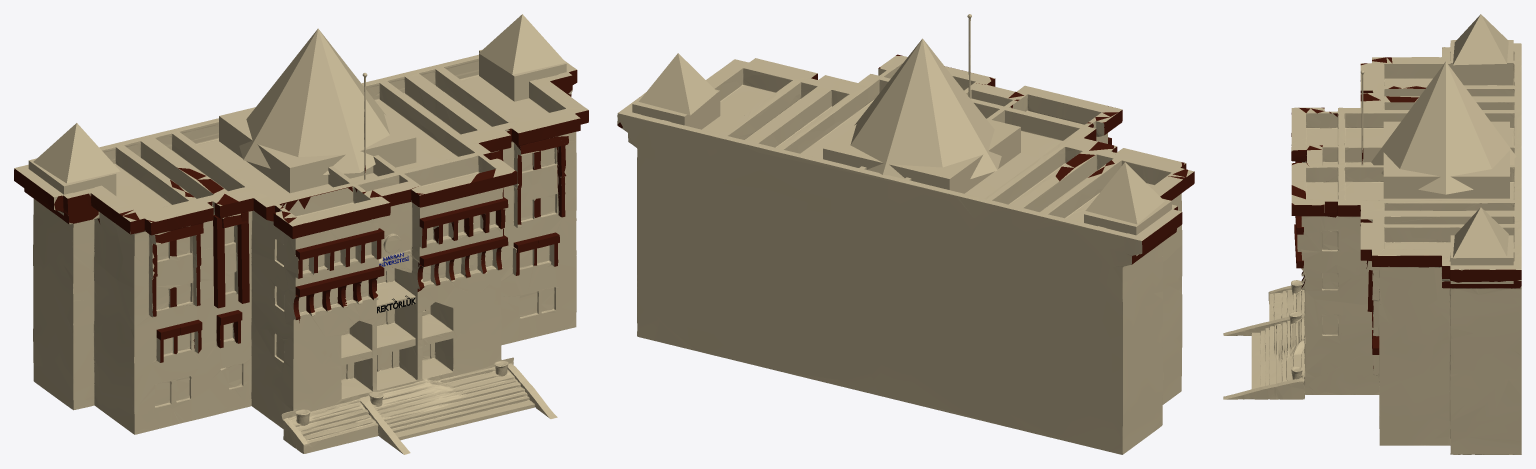
The model's file is Rektorluk-binasi.obj.
3 views of the same model, side by side, from view 1: azimuth 30°, elevation 25°; view 2: azimuth 150°, elevation 25°; view 3: azimuth 270°, elevation 25° (orthographic). The views are drawn at different scales.
Parts seen in each view (by area): view 1: mesh_0, Cone, Cube, Cone.002, Cone.001, Cube.001, Cube.002, Cube.010, Cube.003, Cube.004, Cube.005, Cube.006 (+1 smaller); view 2: mesh_0, Cone, Cube, Cone.002, Cone.001, Cube.001, Cube.002; view 3: mesh_0, Cone, Cube, Cone.001, Cone.002, Cube.002, Cube.001.
Boxes of the visible parts, box(x1,y1,x2,y2) form: mesh_0: box(14, 54, 588, 454); Cone: box(239, 28, 389, 174); Cube: box(219, 107, 416, 193); Cone.002: box(33, 123, 120, 183); Cone.001: box(479, 14, 565, 74); Cube.001: box(479, 49, 566, 101); Cube.002: box(28, 158, 116, 215); Cube.010: box(213, 215, 225, 308); Cube.003: box(295, 265, 384, 297); Cube.004: box(295, 228, 384, 260); Cube.005: box(419, 235, 508, 266); Cube.006: box(419, 197, 508, 229); mesh_0: box(617, 14, 1194, 454); Cone: box(850, 38, 1001, 178); Cube: box(823, 118, 1020, 193); Cone.002: box(1085, 162, 1164, 224); Cone.001: box(638, 53, 717, 115); Cube.001: box(632, 89, 720, 129); Cube.002: box(1084, 198, 1171, 255); mesh_0: box(1223, 43, 1521, 454); Cone: box(1371, 61, 1516, 194); Cube: box(1383, 121, 1509, 198); Cone.001: box(1453, 207, 1508, 258); Cone.002: box(1453, 14, 1508, 65); Cube.002: box(1450, 40, 1513, 85); Cube.001: box(1450, 235, 1513, 283).
Bounding box in the file's own units: 1.9 × 1.13 × 1.06.
